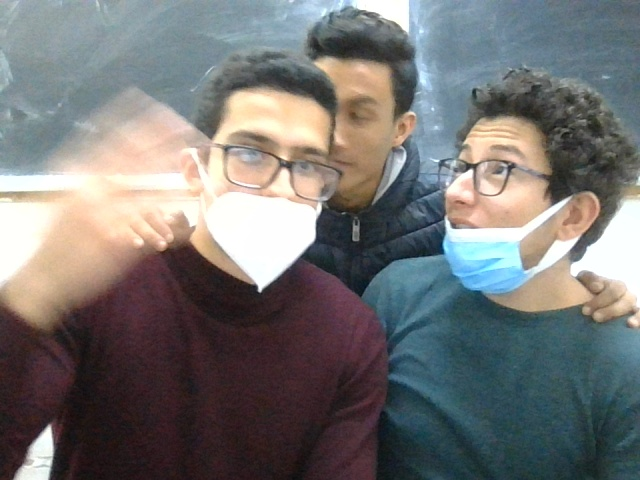mask_weared_incorrect: (434, 56, 614, 301), (185, 57, 336, 291)
without_mask: (321, 12, 437, 190)
